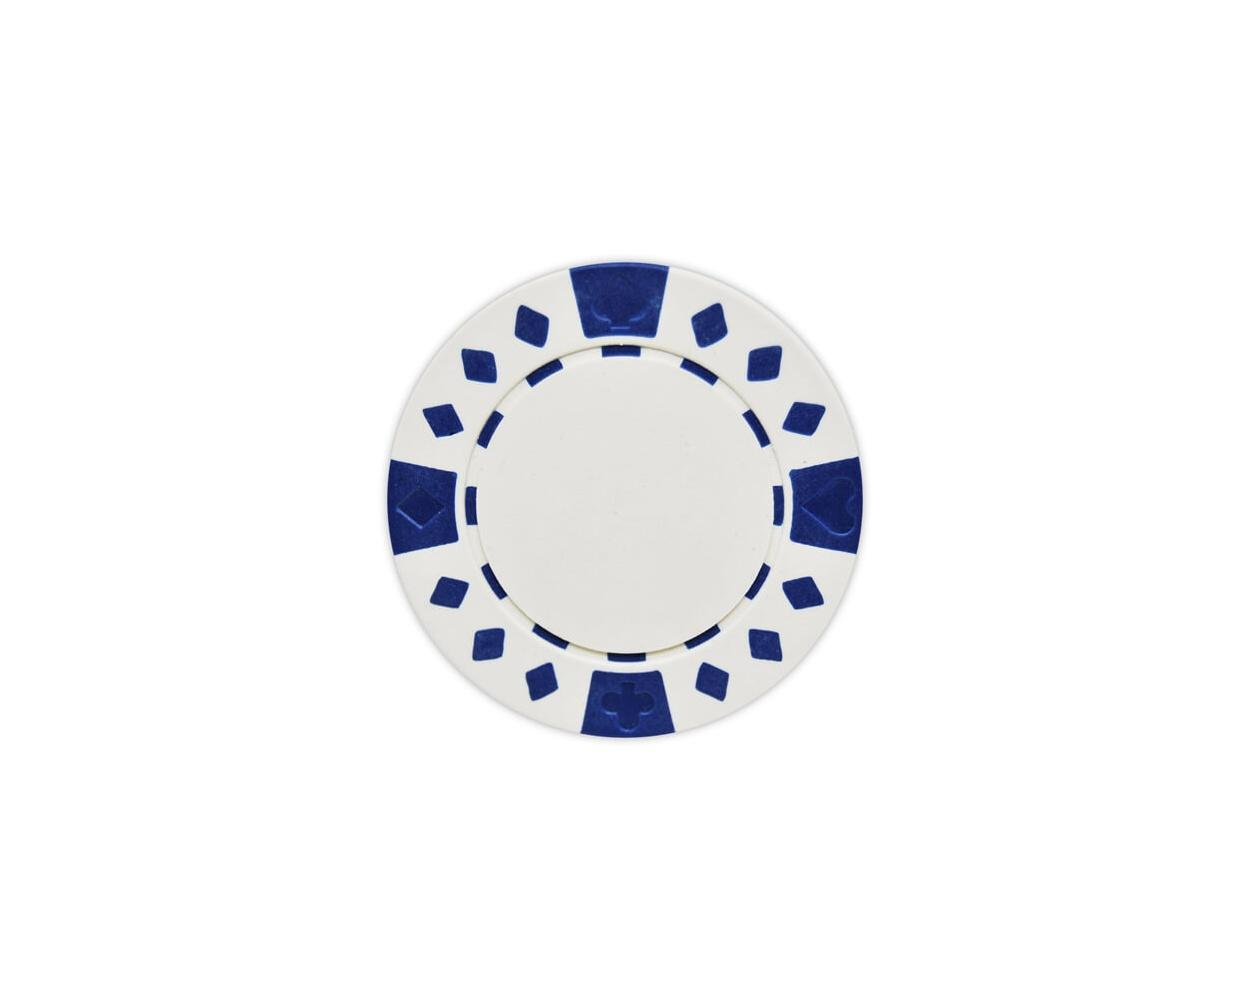chip-white: (386, 261, 862, 739)
